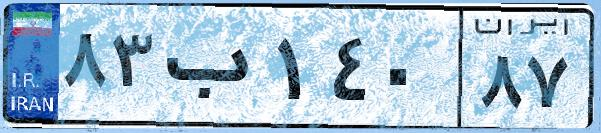0: (385, 28, 445, 110)
1: (270, 28, 330, 110)
3: (110, 28, 158, 98)
4: (330, 28, 385, 110)
7: (525, 38, 570, 115)
8: (57, 26, 110, 100), (475, 38, 525, 113)
ب: (158, 20, 270, 120)
